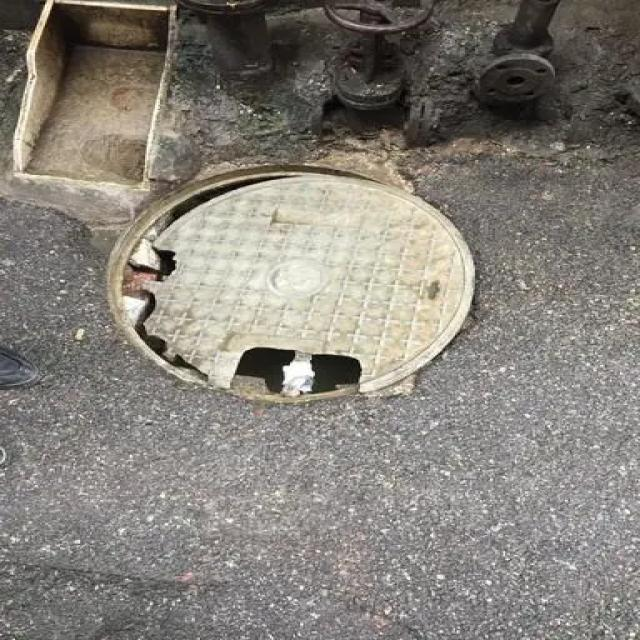manhole: (103, 163, 478, 407)
